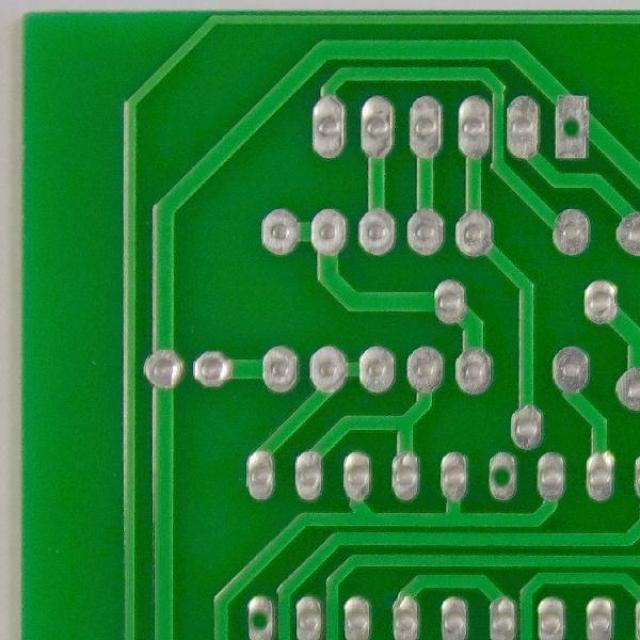Missing_Hole: (549, 100, 593, 161), (483, 450, 522, 501), (242, 595, 276, 640)
